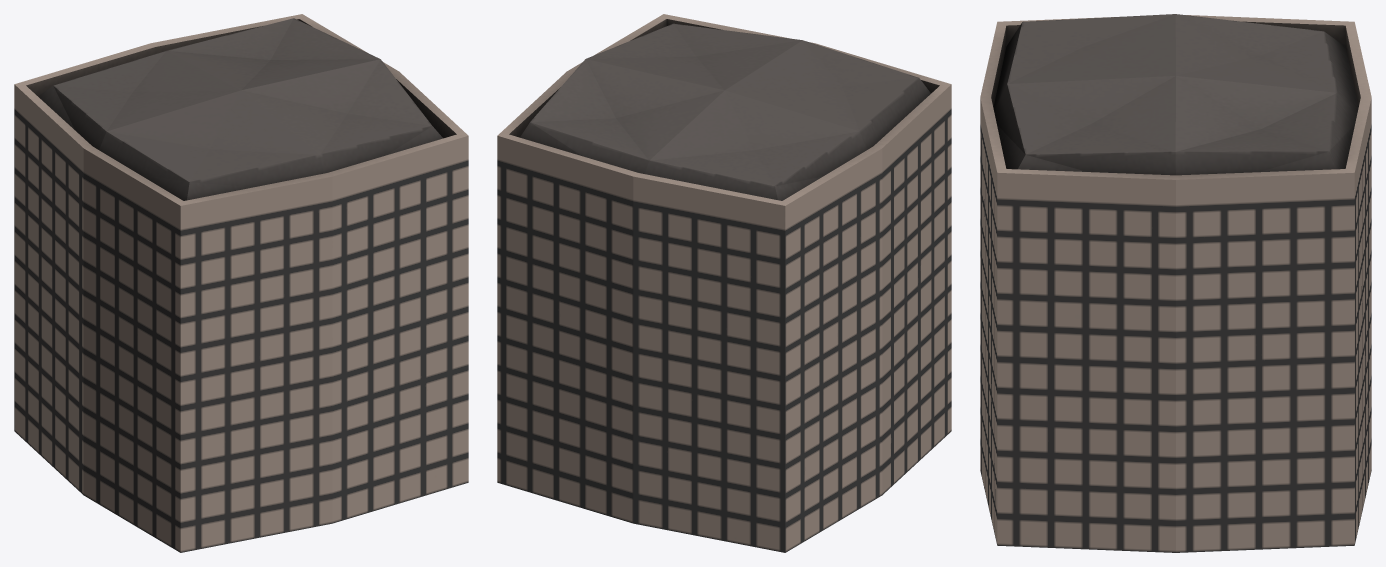
Rendered from HBarrier.fbx.
3 views of the same model, side by side, from view 1: azimuth 30°, elevation 25°; view 2: azimuth 150°, elevation 25°; view 3: azimuth 270°, elevation 25° (orthographic). The views are drawn at different scales.
Visible parts, largest first — view 1: HBarrier; view 2: HBarrier; view 3: HBarrier.
Boxes of the visible parts, x1,y1,x2,y2 form: HBarrier: (14,14,468,552); HBarrier: (497,14,951,552); HBarrier: (980,14,1371,552).
Bounding box in the file's own units: 4.38 × 4.87 × 4.38.
